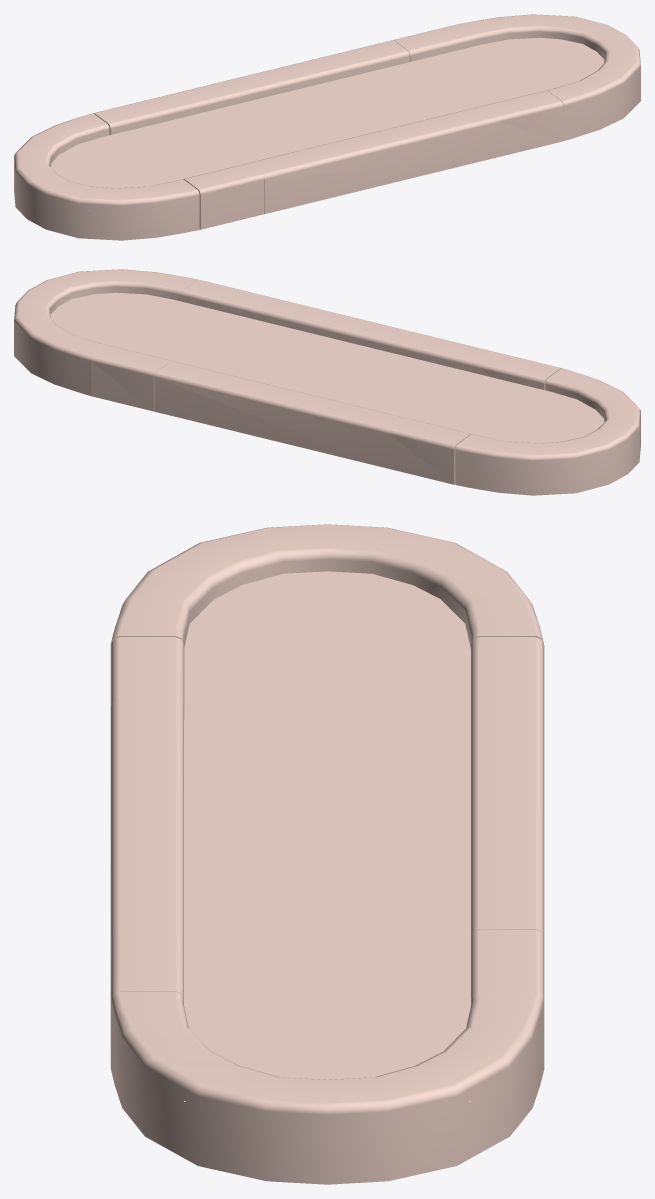
File: Mid long oval curb 1.fbx
3 renders of one model, top to bottom at view 1: azimuth 30°, elevation 25°; view 2: azimuth 150°, elevation 25°; view 3: azimuth 270°, elevation 25°, orthographic. The views are drawn at different scales.
Visible parts, largest first — view 1: Oval curb.002; view 2: Oval curb.002; view 3: Oval curb.002.
Part boxes in pixels (bbox=[...]): Oval curb.002: bbox=[14, 14, 640, 240]; Oval curb.002: bbox=[14, 269, 640, 495]; Oval curb.002: bbox=[110, 524, 544, 1184].
Size of the model in its own units: 484 by 29.98 by 151.
